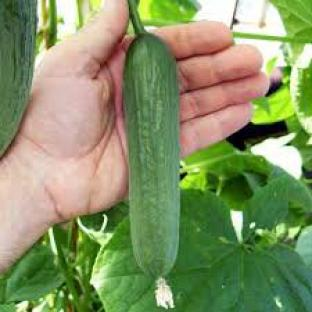Cucumber: (124, 7, 180, 289)
